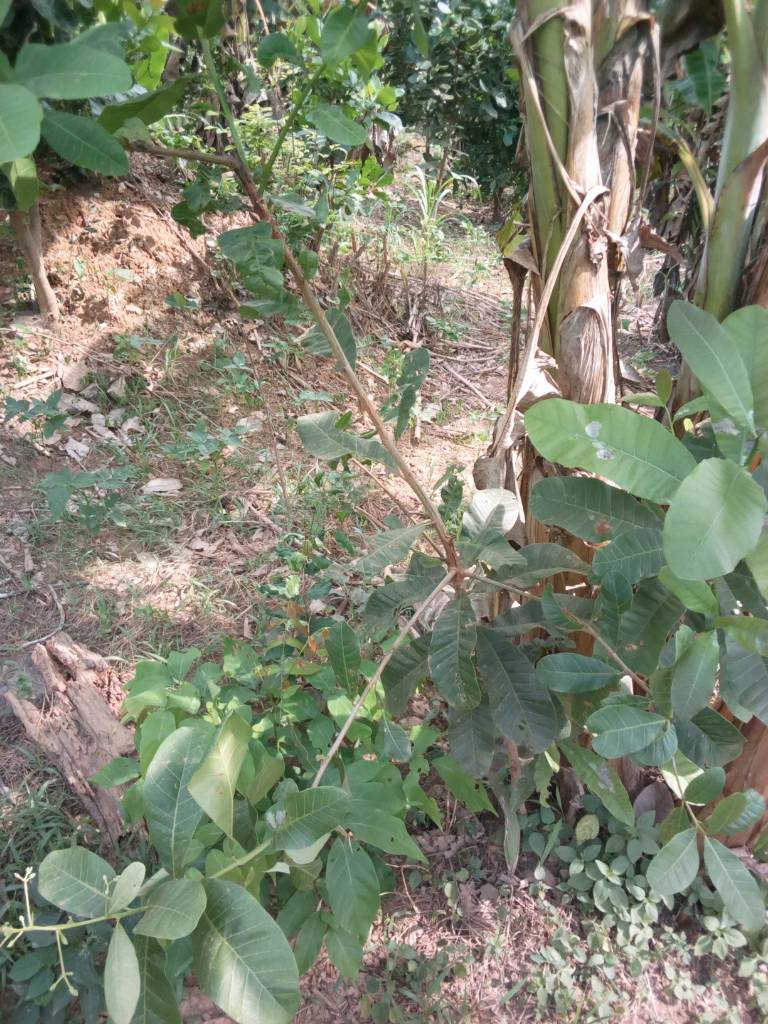Termites: (52, 186, 190, 303)
